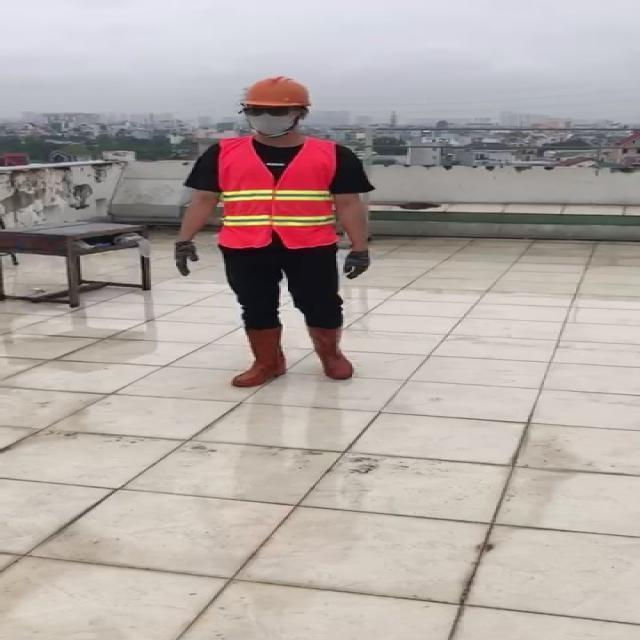gloves: (171, 236, 199, 279), (340, 247, 371, 281)
goggles: (240, 106, 303, 118)
helmet: (239, 74, 317, 110)
safety_vest: (216, 138, 339, 247)
